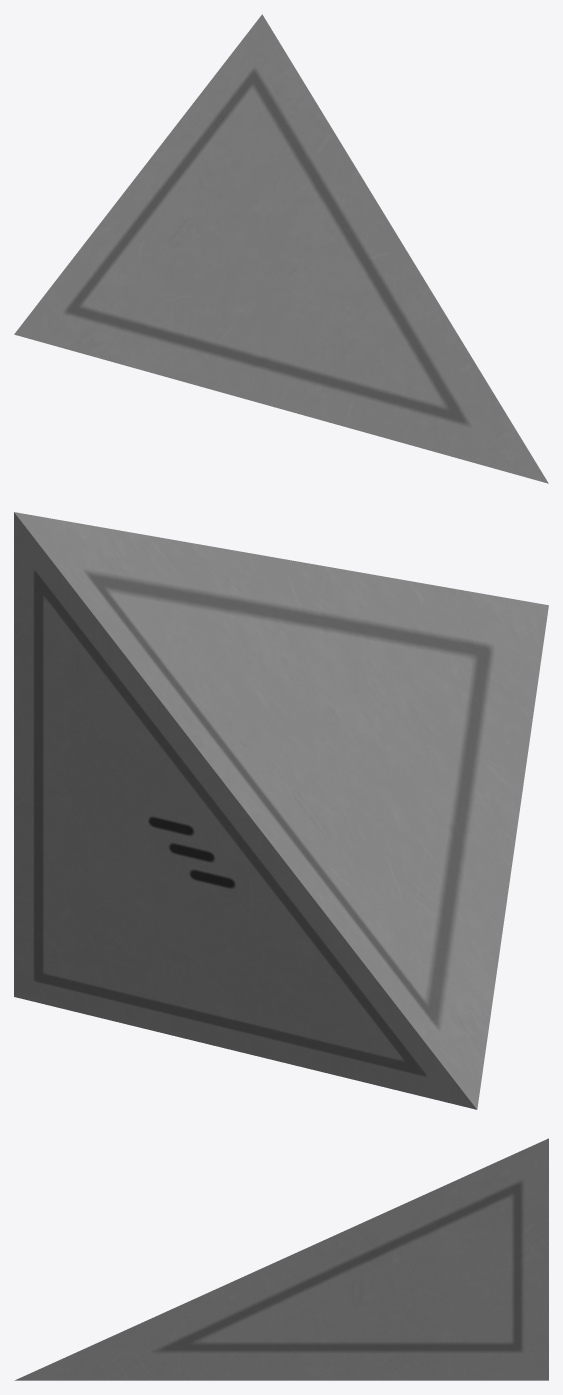
The model's file is LargeBlockArmorCorner2Tip.glb.
The picture shows the model from 3 angles, top to bottom: view 1: azimuth 30°, elevation 25°; view 2: azimuth 150°, elevation 25°; view 3: azimuth 270°, elevation 25°; orthographic projection. The views are drawn at different scales.
Parts seen in each view (by area): view 1: LargeBlockArmorCorner2Tip_part1; view 2: LargeBlockArmorCorner2Tip_part1, LargeBlockArmorCorner2Tip_part2; view 3: LargeBlockArmorCorner2Tip_part1.
Boxes of the visible parts, x1,y1,x2,y2 form: LargeBlockArmorCorner2Tip_part1: (14,14,548,483); LargeBlockArmorCorner2Tip_part1: (14,512,548,1109); LargeBlockArmorCorner2Tip_part2: (14,512,476,1109); LargeBlockArmorCorner2Tip_part1: (14,1138,548,1380).
Bounding box in the file's own units: 1.25 × 1.25 × 2.5.
Materials: 2 (2 with a texture image).
